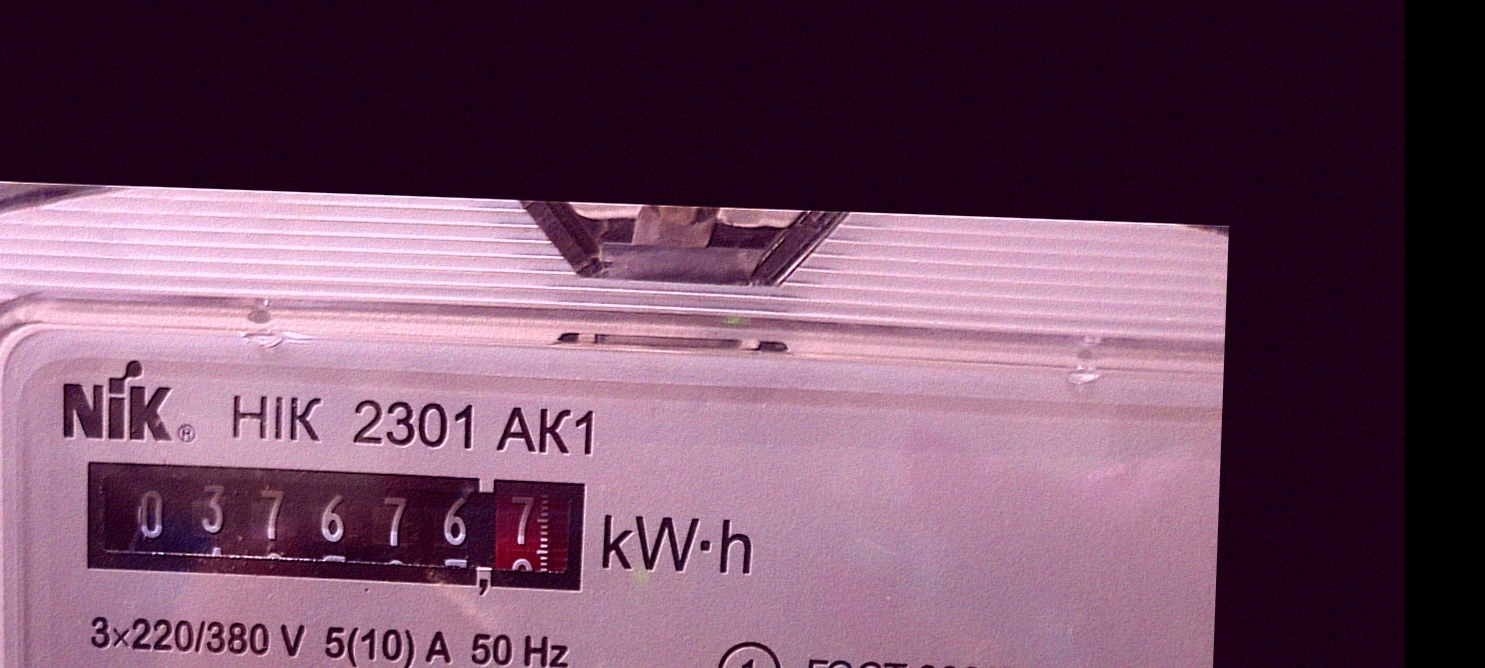0: (134, 486, 170, 542)
3: (198, 480, 227, 537)
6: (316, 489, 350, 544), (440, 493, 472, 549)
7: (378, 493, 411, 552), (255, 485, 288, 543), (508, 492, 537, 549)
screen: (68, 445, 602, 610)
